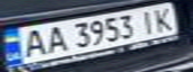3: (69, 20, 90, 50), (118, 11, 139, 39)
5: (103, 15, 124, 43)
9: (87, 17, 106, 46)
A: (15, 26, 51, 59), (39, 24, 69, 54)
I: (133, 7, 160, 35)
K: (148, 4, 178, 33)
